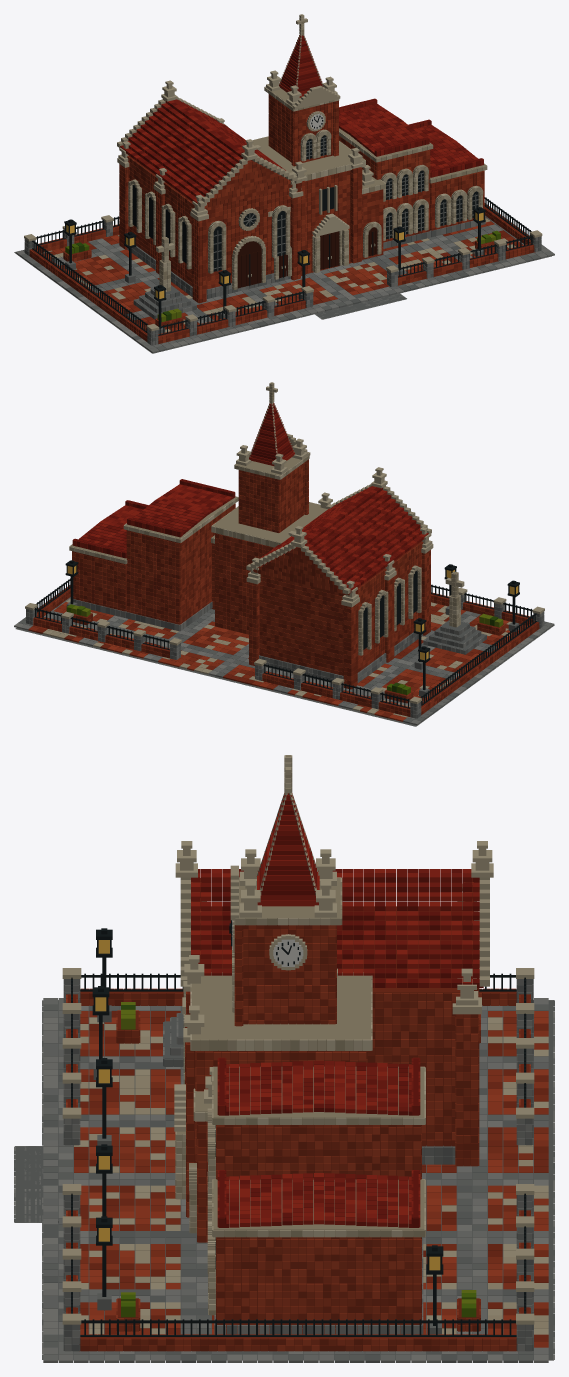
Rendered from SM_Mapa_069.fbx.
3 views of the same model, one above another, from view 1: azimuth 30°, elevation 25°; view 2: azimuth 150°, elevation 25°; view 3: azimuth 270°, elevation 25° (orthographic). The views are drawn at different scales.
Visible parts, largest first — view 1: SM_Mapa_069; view 2: SM_Mapa_069; view 3: SM_Mapa_069.
Part boxes in pixels (bbox=[...]): SM_Mapa_069: bbox=[14, 14, 554, 353]; SM_Mapa_069: bbox=[14, 382, 554, 726]; SM_Mapa_069: bbox=[14, 755, 554, 1362].
Bounding box in the file's own units: 45 × 28.33 × 25.33.
